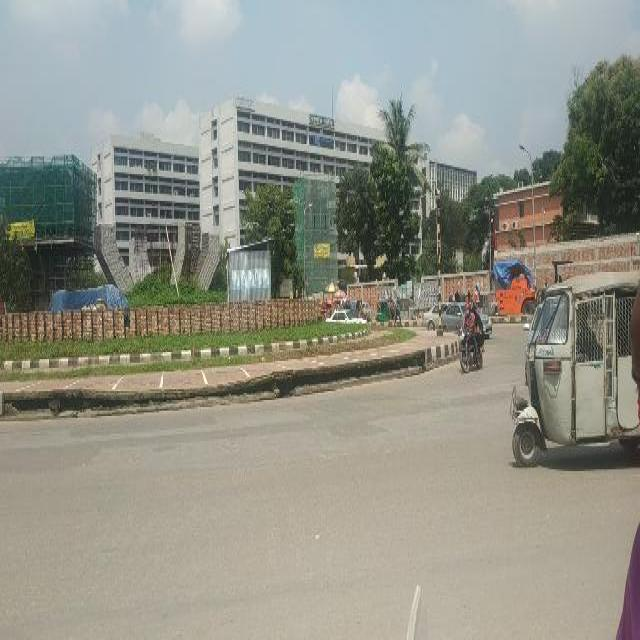motorbike: (458, 326, 484, 374)
rickshaw: (352, 300, 366, 319)
three wheelers -CNG-: (508, 268, 636, 472), (397, 292, 415, 322), (480, 291, 500, 317), (376, 299, 390, 320)
